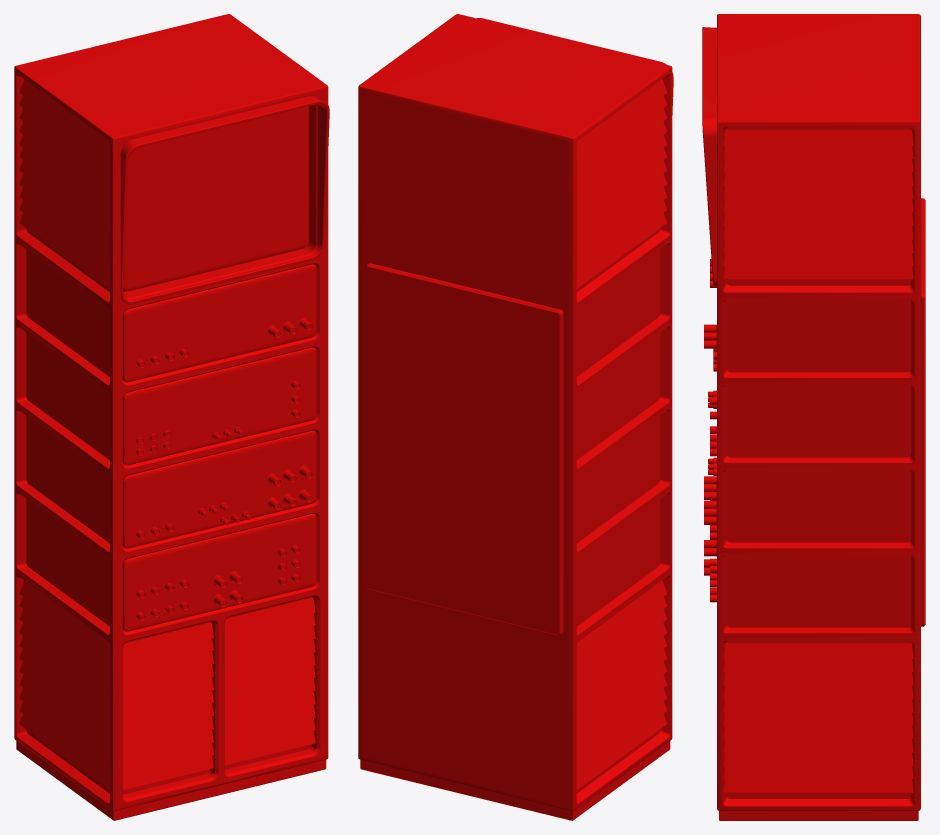
Rendered from Equipment_9.fbx.
3 views of the same model, side by side, from view 1: azimuth 30°, elevation 25°; view 2: azimuth 150°, elevation 25°; view 3: azimuth 270°, elevation 25° (orthographic). The views are drawn at different scales.
Parts seen in each view (by area): view 1: L14:polySurface3047; view 2: L14:polySurface3047; view 3: L14:polySurface3047.
Boxes of the visible parts, x1,y1,x2,y2 form: L14:polySurface3047: [14, 14, 329, 820]; L14:polySurface3047: [358, 14, 673, 820]; L14:polySurface3047: [702, 14, 925, 820].
Bounding box in the file's own units: 67.76 × 205 × 59.14.
